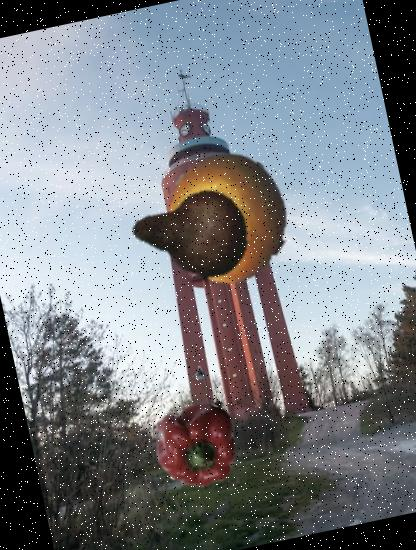Kumquats: (152, 142, 304, 294)
Pear: (119, 162, 260, 303)
Pepper: (144, 387, 253, 496)
